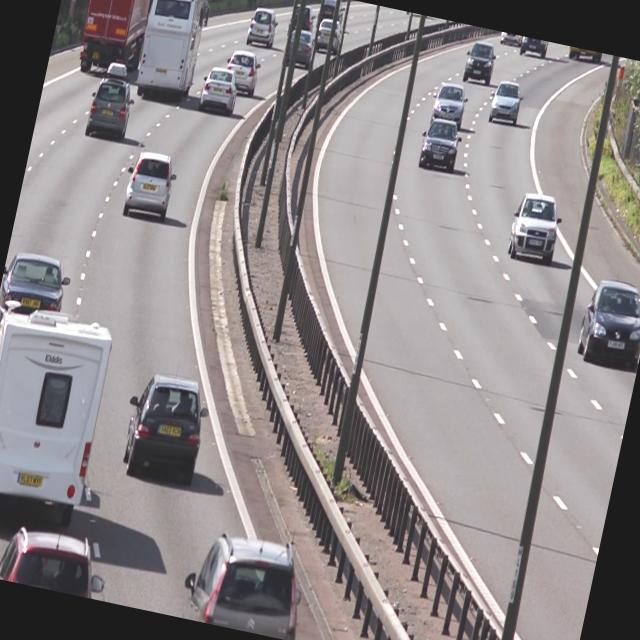Vehicle: (0, 296, 120, 534), (180, 525, 314, 640), (120, 368, 214, 488), (132, 0, 215, 107), (0, 244, 72, 345), (72, 0, 161, 78), (573, 275, 640, 376), (82, 57, 142, 150), (118, 147, 182, 230), (506, 190, 566, 267), (415, 116, 466, 178), (198, 61, 244, 117), (221, 44, 265, 96), (486, 75, 527, 128), (430, 78, 470, 128), (462, 37, 500, 89), (246, 5, 281, 48), (520, 36, 549, 57), (496, 31, 526, 50)
